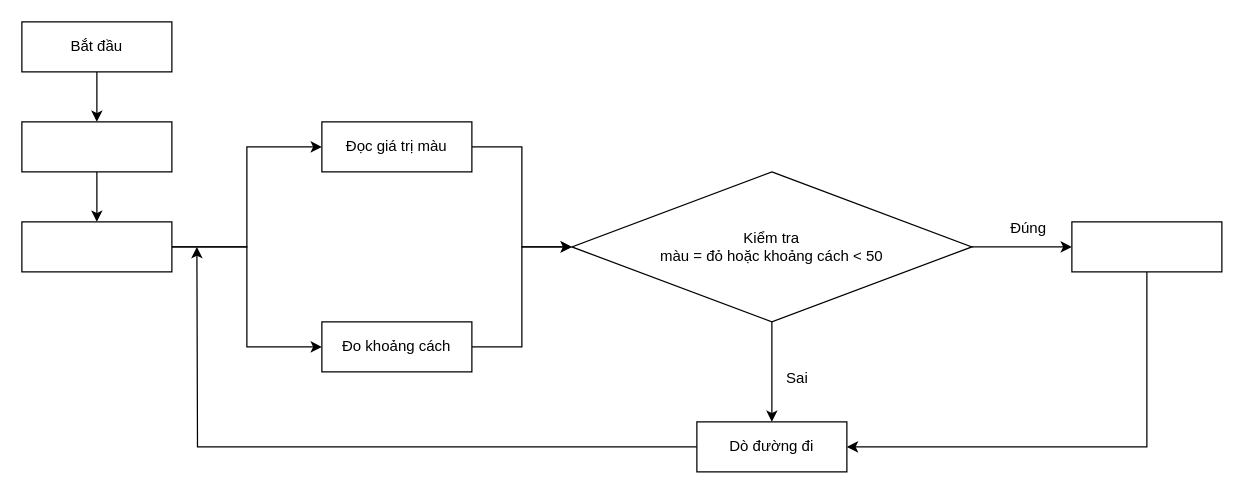
The diagram is 1244 pixels wide and 494 high, and some of its shapes have lost their labels. Here are the shapes that lost their labels. From the top down, the centre of each, then its label:
At [96,146]: "Thiết lập robot".
At [96,246]: "Hiệu chuẩn cảm biến màu".
At [1146,246]: "Dừng 10s".
